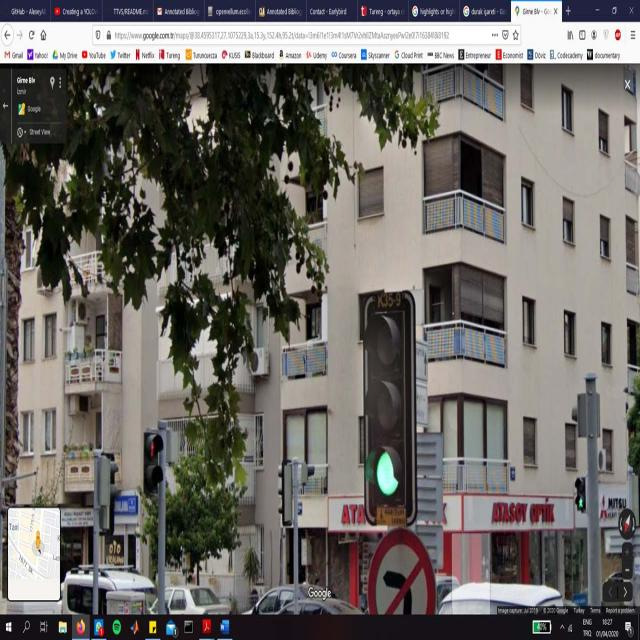soladonulmez: (370, 532, 432, 626)
yesil: (364, 302, 413, 526)
